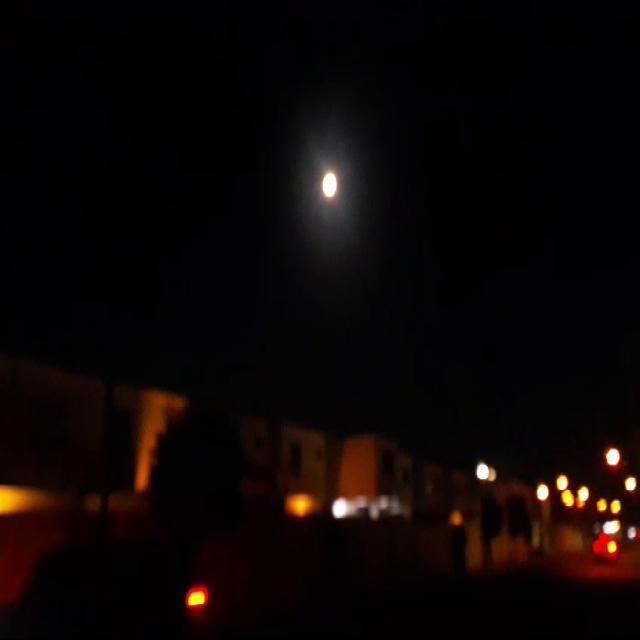moon: (323, 174, 343, 208)
